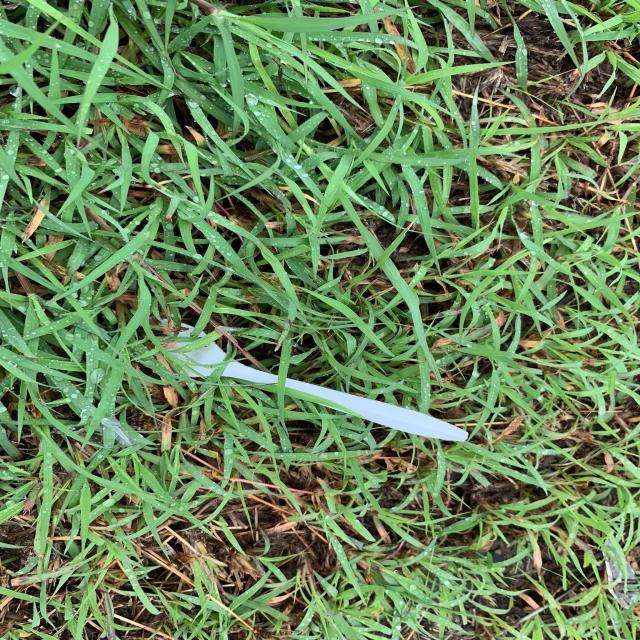litter: (163, 318, 467, 442)
